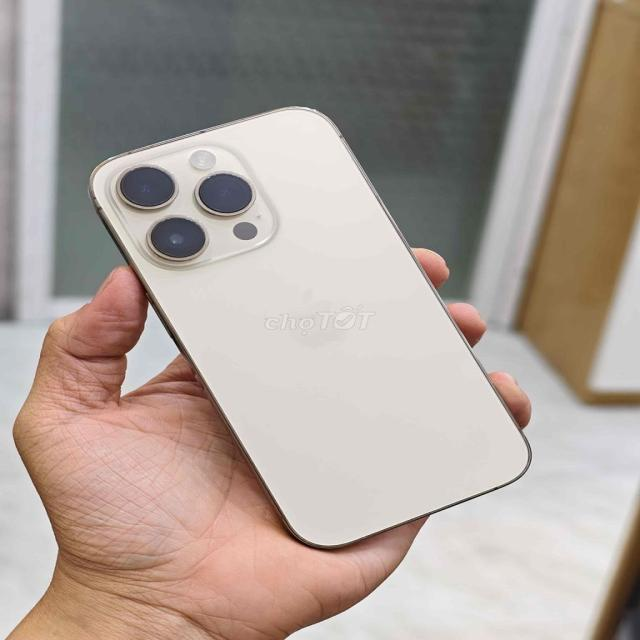gen_14: (86, 104, 537, 552)
